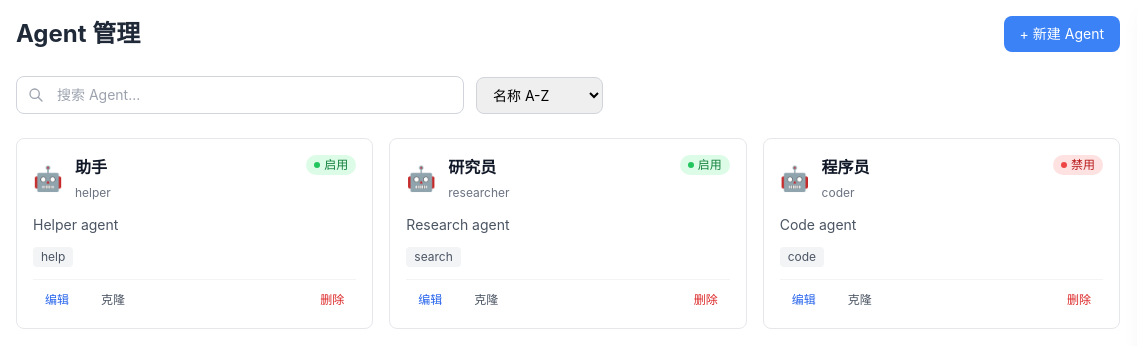
Test: AgentManagement › shows search input and filters agents by name/display_name
Type "研究" into the field with placeholder "搜索 Agent..." at (240, 95), box [16, 76, 464, 114]
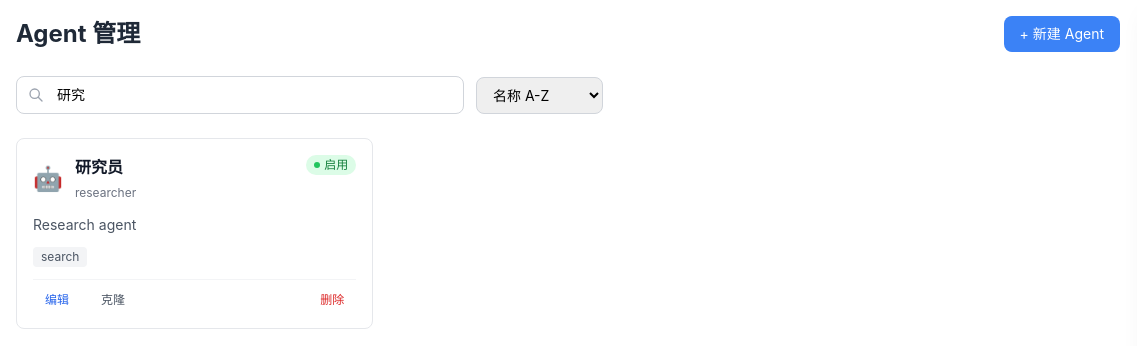
Check: the heading "研究员" is shown, box [75, 157, 123, 177]
Check: the heading "程序员" is gone
